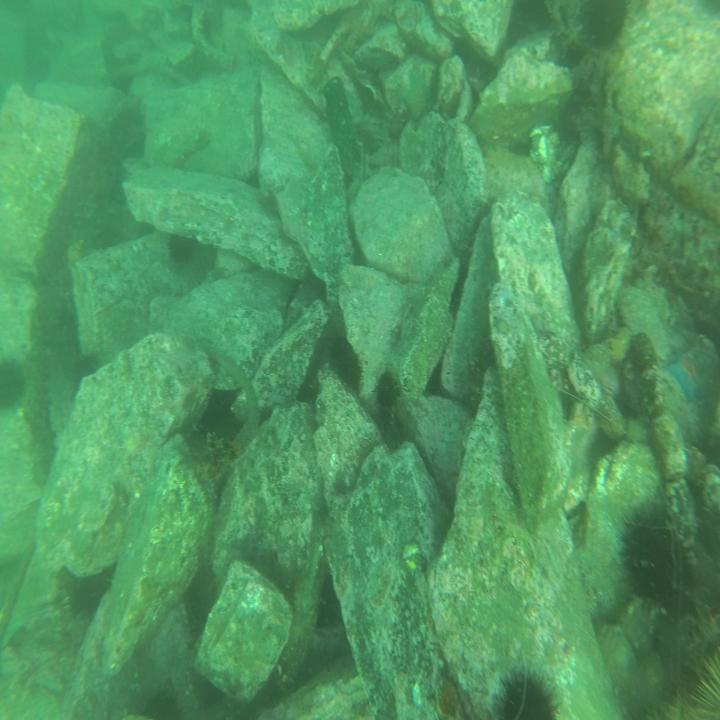echinus: (626, 507, 679, 608), (499, 668, 553, 720), (0, 356, 27, 410), (169, 229, 197, 268)
starfish: (667, 344, 706, 401)
